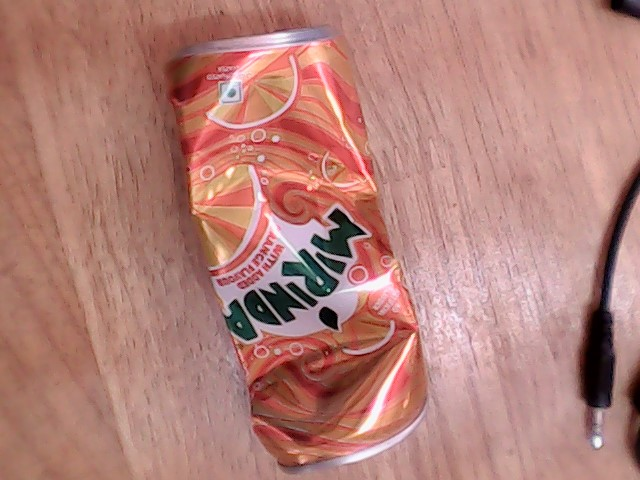Metal: (152, 31, 467, 480)
